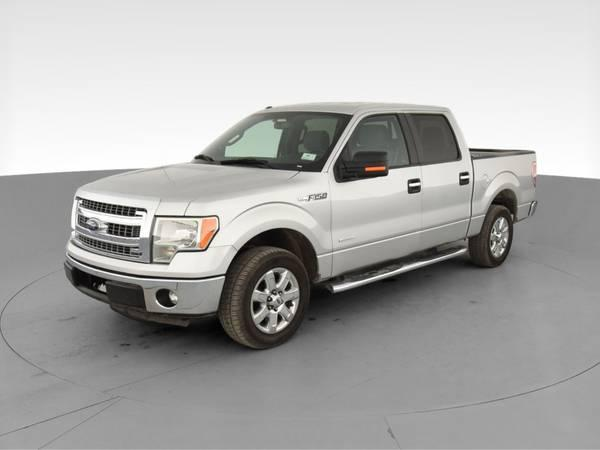Front_Bumper: (65, 242, 237, 316)
Front_Fender: (187, 173, 333, 284)
Front_Left_Door: (330, 164, 425, 274)
Front_Left_Window: (334, 112, 421, 180)
Front_Windshield: (191, 111, 351, 173)
Grille: (69, 198, 156, 266)
Hood: (77, 163, 302, 216)
Left_Headlight: (151, 214, 220, 265)
Rear_Fender: (466, 152, 536, 237)
Rear_Left_Door: (422, 158, 472, 250)
Rear_Left_Window: (402, 114, 464, 166)
Roof: (257, 100, 471, 170)
Wheel: (220, 242, 317, 348), (468, 203, 516, 269)
